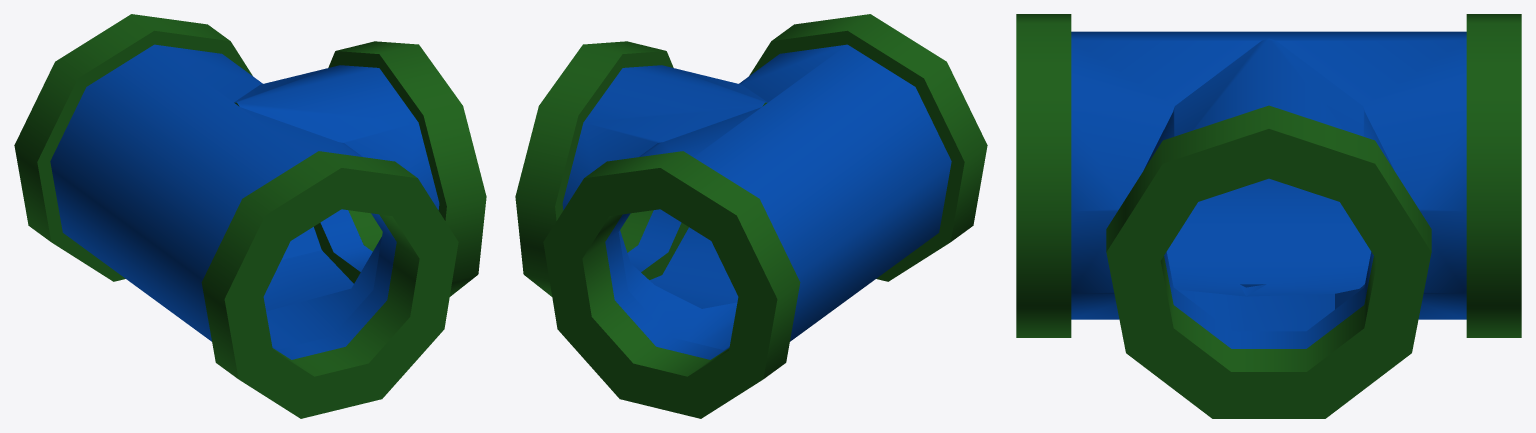
The model's file is T pipe.fbx.
3 views of the same model, side by side, from view 1: azimuth 30°, elevation 25°; view 2: azimuth 150°, elevation 25°; view 3: azimuth 270°, elevation 25° (orthographic). The views are drawn at different scales.
Parts seen in each view (by area): view 1: straight 2; view 2: straight 2; view 3: straight 2.
Boxes of the visible parts, x1=… form: straight 2: x1=14, y1=14, x2=486, y2=418; straight 2: x1=515, y1=14, x2=987, y2=418; straight 2: x1=1016, y1=14, x2=1521, y2=418.
Bounding box in the file's own units: 113 × 87.96 × 138.
